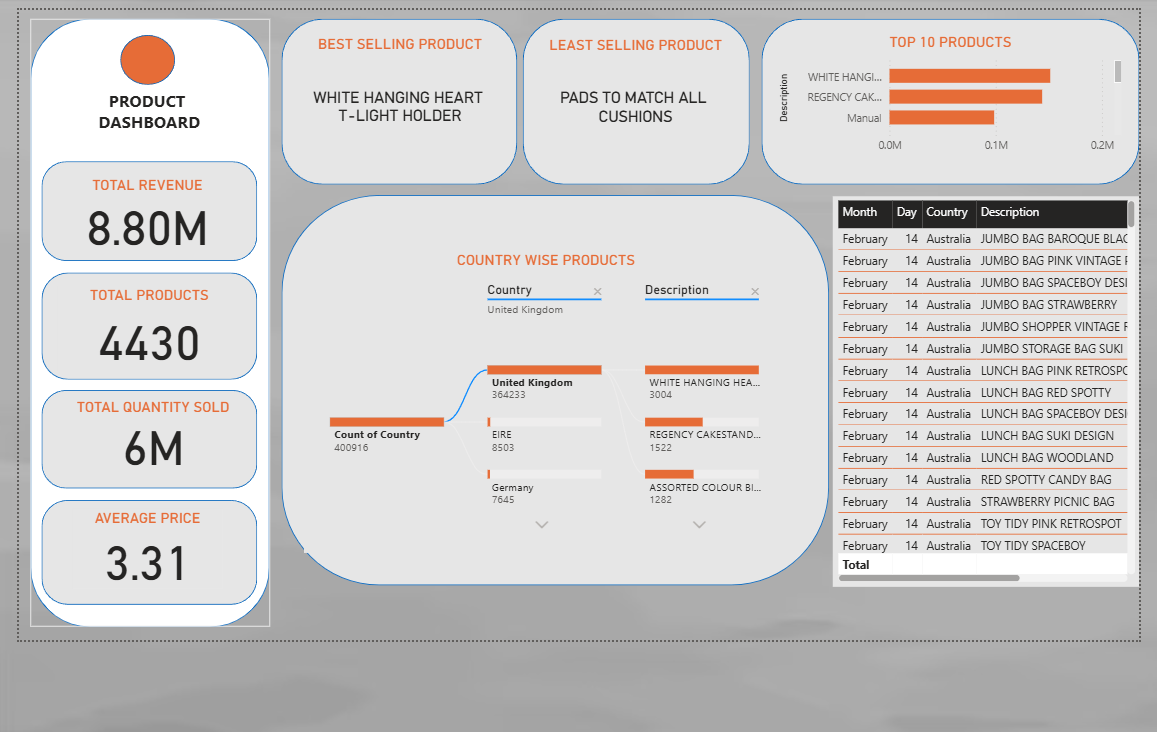

This screenshot's page, from the dashboard's own definition file:
{"tool":"powerbi","page":{"name":"PRODUCT","canvas":[1280,720],"ordinal":1},"visuals":[{"type":"shape","box":[12.8,10,273.7,695.6],"z":0},{"type":"shape","box":[115.5,28.5,62.7,57],"z":1000},{"type":"textbox","box":[25.7,85.5,246.6,65.6],"z":2000},{"type":"shape","box":[25.7,172.5,246.6,114],"z":3000},{"type":"card","title":"TOTAL REVENUE","fields":{"Values":["Sum(retail_segmentation cleaned_transactions.Revenue)"]},"box":[48.5,189.6,196.7,85.5],"z":4000},{"type":"shape","box":[25.7,299.3,246.6,122.6],"z":5000},{"type":"shape","box":[25.7,434.7,246.6,112.6],"z":6000},{"type":"shape","box":[25.7,560.2,246.6,119.7],"z":7000},{"type":"card","title":"TOTAL PRODUCTS","fields":{"Values":["Count(retail_segmentation cleaned_transactions.Description)"]},"box":[44.2,315,209.5,96.9],"z":8000},{"type":"card","title":"TOTAL QUANTITY SOLD","fields":{"Values":["Sum(retail_segmentation cleaned_transactions.Quantity)"]},"box":[52.7,443.3,201,84.1],"z":9000},{"type":"card","title":"AVERAGE PRICE","fields":{"Values":["Avg(retail_segmentation cleaned_transactions.Price)"]},"box":[61.3,570.2,171,91.2],"z":10000},{"type":"shape","box":[299.3,10,269.4,189.6],"z":11000},{"type":"card","title":"BEST SELLING PRODUCT","fields":{"Values":["Min(retail_segmentation cleaned_transactions.Description)"]},"box":[313.6,28.5,242.3,144],"z":12000},{"type":"shape","box":[575.9,10,259.4,189.6],"z":13000},{"type":"card","title":"LEAST SELLING PRODUCT","fields":{"Values":["Min(retail_segmentation cleaned_transactions.Description)"]},"box":[588.7,29.9,232.3,142.5],"z":14000},{"type":"shape","box":[848.1,10,431.9,189.6],"z":15000},{"type":"barChart","title":"TOP 10 PRODUCTS","fields":{"Category":["retail_segmentation cleaned_transactions.Description"],"Y":["Sum(retail_segmentation cleaned_transactions.Revenue)"]},"box":[863.8,25.7,400.5,146.8],"z":16000},{"type":"shape","box":[299.3,211,625.7,446.1],"z":17000},{"type":"decompositionTreeVisual","title":"COUNTRY WISE PRODUCTS","fields":{"Analyze":["CountNonNull(retail_segmentation cleaned_transactions.Country)"],"ExplainBy":["retail_segmentation cleaned_transactions.Country","retail_segmentation cleaned_transactions.Description"]},"box":[326.4,275.1,553.1,344.9],"z":18000},{"type":"tableEx","fields":{"Values":["retail_segmentation cleaned_transactions.InvoiceDate.Variation.Date Hierarchy.Month","retail_segmentation cleaned_transactions.InvoiceDate.Variation.Date Hierarchy.Day","retail_segmentation cleaned_transactions.Country","retail_segmentation cleaned_transactions.Description","Sum(retail_segmentation cleaned_transactions.Quantity)"]},"box":[929.4,212.4,350.6,446.1],"z":19000}]}

Visuals, with their boxes on the page's 1280x720 design canvas (x1, y1, x2, y2). These are canvas units, not pixel positions in the 1157x732 screenshot, which may show the page scaled, cropped or inside an application window:
shape: detection(13, 10, 286, 706)
shape: detection(116, 28, 178, 86)
textbox: detection(26, 86, 272, 151)
shape: detection(26, 172, 272, 286)
"TOTAL REVENUE" card: detection(48, 190, 245, 275)
shape: detection(26, 299, 272, 422)
shape: detection(26, 435, 272, 547)
shape: detection(26, 560, 272, 680)
"TOTAL PRODUCTS" card: detection(44, 315, 254, 412)
"TOTAL QUANTITY SOLD" card: detection(53, 443, 254, 527)
"AVERAGE PRICE" card: detection(61, 570, 232, 661)
shape: detection(299, 10, 569, 200)
"BEST SELLING PRODUCT" card: detection(314, 28, 556, 172)
shape: detection(576, 10, 835, 200)
"LEAST SELLING PRODUCT" card: detection(589, 30, 821, 172)
shape: detection(848, 10, 1280, 200)
"TOP 10 PRODUCTS" barChart: detection(864, 26, 1264, 172)
shape: detection(299, 211, 925, 657)
"COUNTRY WISE PRODUCTS" decompositionTreeVisual: detection(326, 275, 880, 620)
tableEx - retail_segmentation cleaned_transactions.InvoiceDate.Variation.Date Hierarchy.Month x retail_segmentation cleaned_transactions.InvoiceDate.Variation.Date Hierarchy.Day: detection(929, 212, 1280, 658)
